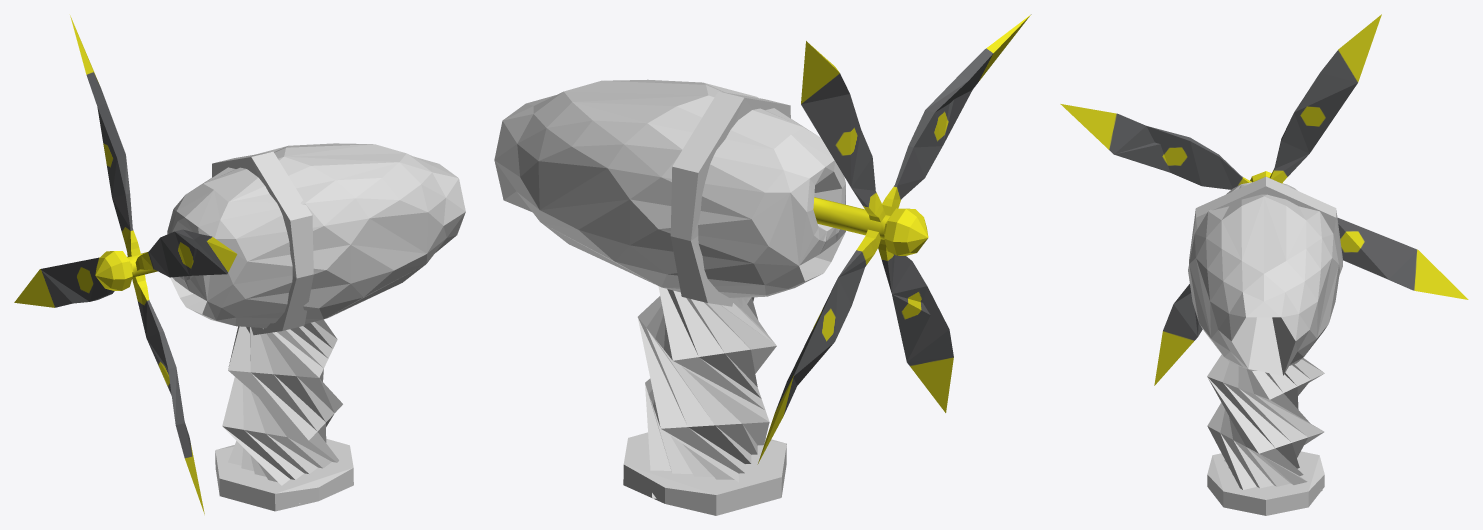
File: EnolaFan.FBX
The picture shows the model from 3 angles, left to right: view 1: azimuth 30°, elevation 25°; view 2: azimuth 150°, elevation 25°; view 3: azimuth 270°, elevation 25°; orthographic projection. The views are drawn at different scales.
Visible parts, largest first — view 1: EnolaEngine, EnolaBase, EnolaProp, EnolaRing, EnolaRing2; view 2: EnolaEngine, EnolaProp, EnolaBase, EnolaRing, EnolaRing2; view 3: EnolaEngine, EnolaProp, EnolaBase, EnolaRing2, EnolaRing.
Boxes of the visible parts, x1,y1,x2,y2 form: EnolaEngine: (167,143,465,328); EnolaBase: (222,319,342,503); EnolaProp: (14,15,237,514); EnolaRing: (212,151,313,335); EnolaRing2: (215,439,353,511); EnolaEngine: (494,79,845,298); EnolaProp: (757,14,1031,464); EnolaBase: (637,286,776,498); EnolaRing: (670,91,790,308); EnolaRing2: (623,432,786,515); EnolaEngine: (1188,182,1339,375); EnolaProp: (1060,14,1468,385); EnolaBase: (1207,354,1324,491); EnolaRing2: (1207,451,1324,515); EnolaRing: (1189,176,1342,275).
Bounding box in the file's own units: 109 × 135 × 122.
Materials: 1 (1 with a texture image).
